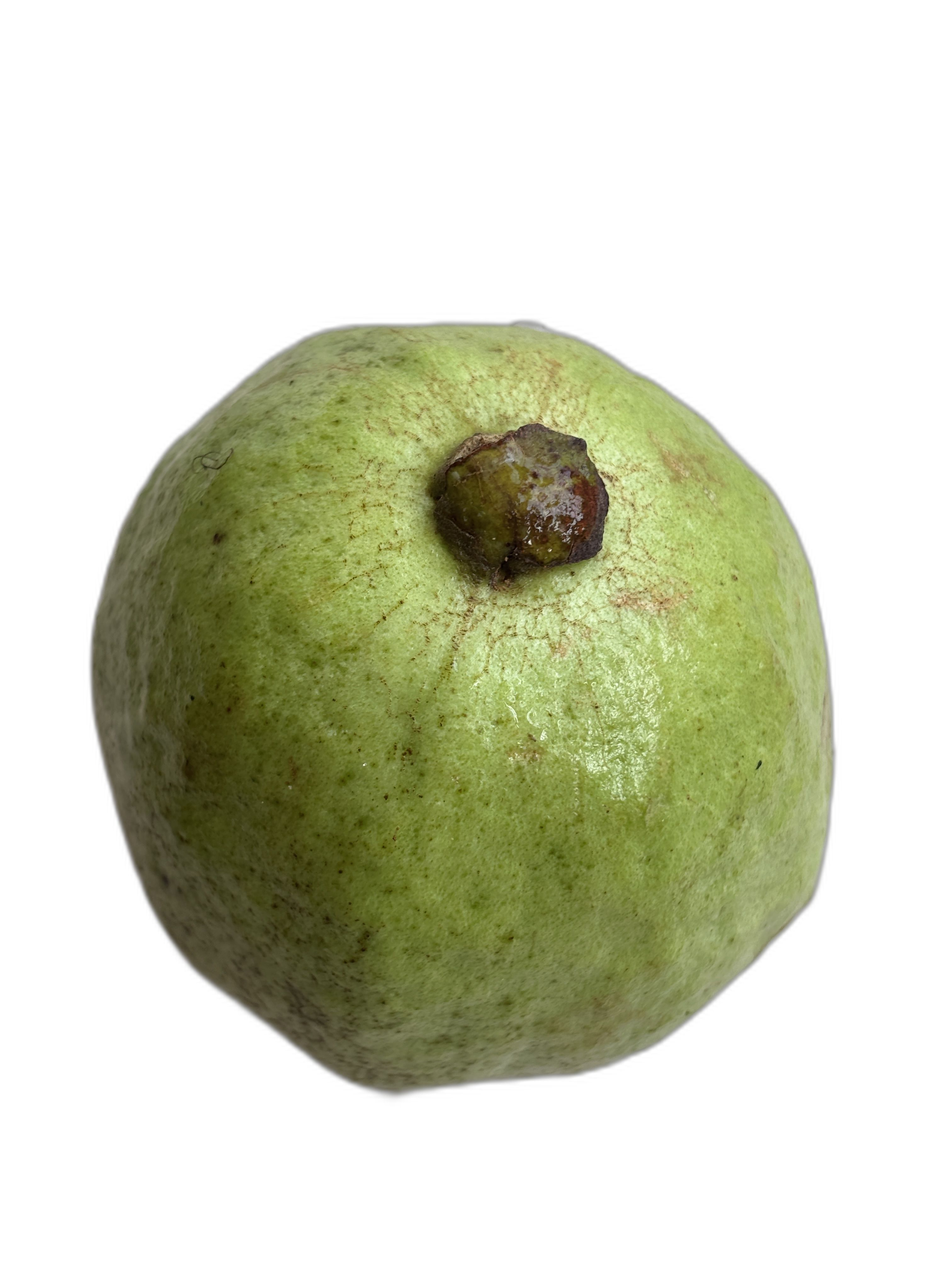guava: (99, 197, 952, 1066)
